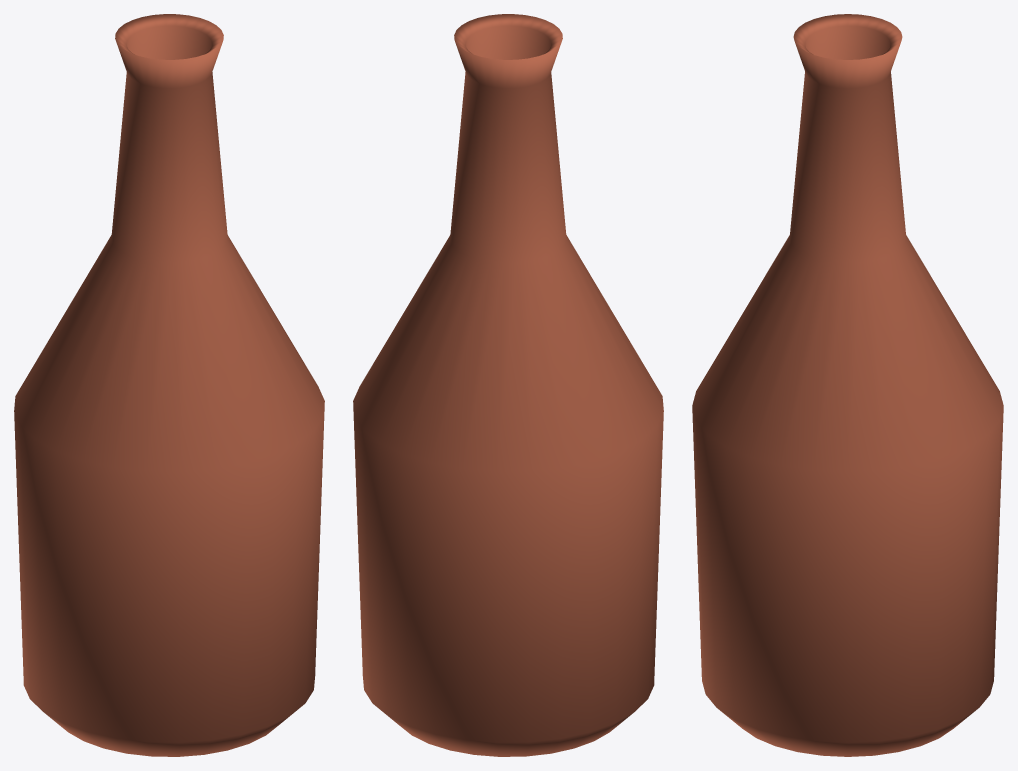
Rendered from i_vase_1_0.glb.
The picture shows the model from 3 angles, left to right: view 1: azimuth 30°, elevation 25°; view 2: azimuth 150°, elevation 25°; view 3: azimuth 270°, elevation 25°; orthographic projection.
Visible parts, largest first — view 1: o; view 2: o; view 3: o.
Boxes of the visible parts, x1=… form: o: x1=14, y1=14, x2=324, y2=756; o: x1=353, y1=14, x2=663, y2=756; o: x1=692, y1=14, x2=1003, y2=756.
Size of the model in its own units: 0.16 by 0.38 by 0.16.
